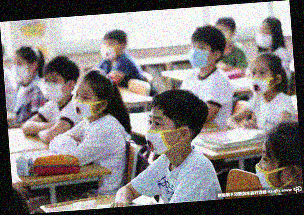with_mask: (255, 148, 282, 195), (144, 114, 171, 157), (70, 90, 94, 122), (248, 66, 272, 98), (40, 75, 64, 105), (187, 41, 210, 71), (254, 26, 274, 50), (11, 58, 30, 82), (99, 39, 117, 63)
